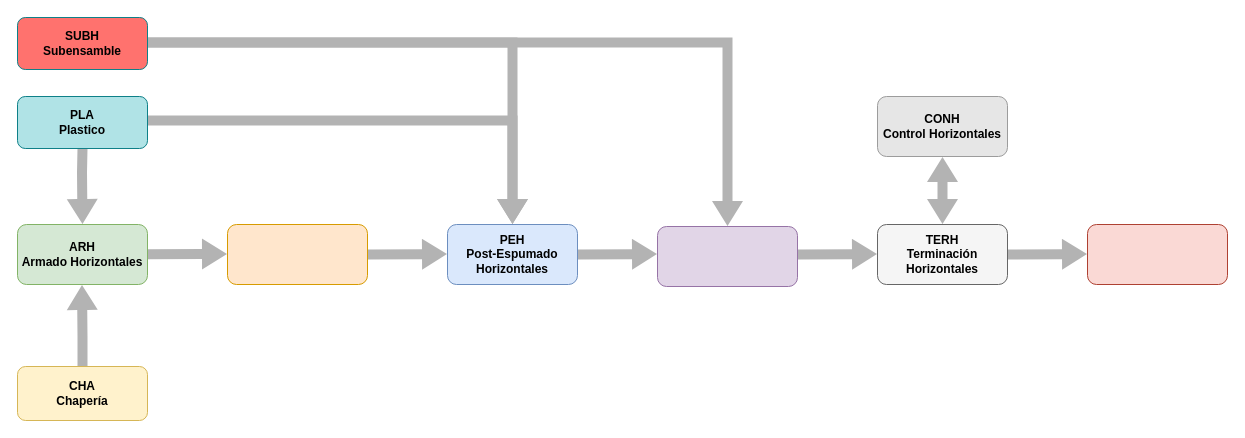
Some shapes in this 1245 by 438 pixel diagram are drawn without their labels. The centre of each missing label's shape, as x and y in pixels:
"EMBH Embalaje Horizontales" belongs at point 1157,254.
"EQUH Equipado Horizontales" belongs at point 727,256.
"ESPH Espumado Horizontales" belongs at point 297,254.
